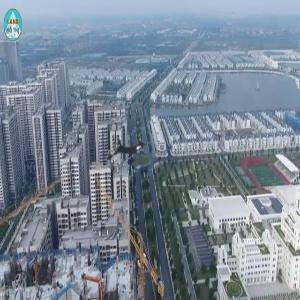drone: (94, 120, 164, 190)
